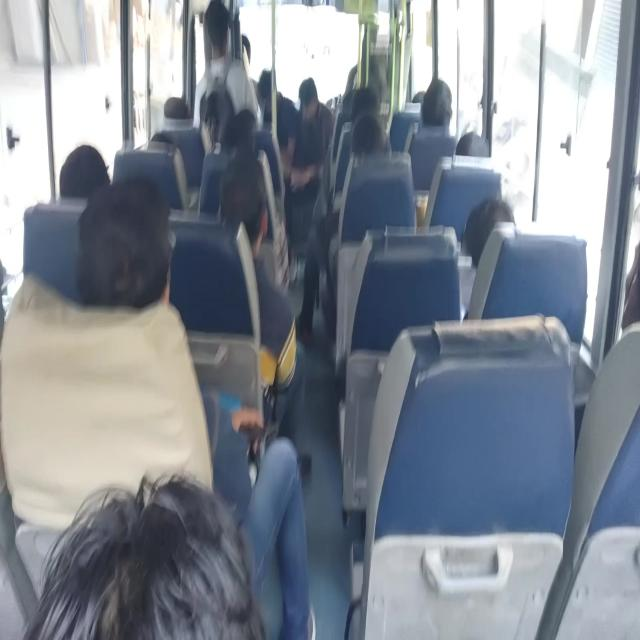person: (48, 473, 257, 640), (83, 191, 175, 320), (220, 158, 274, 240), (469, 192, 519, 258), (608, 242, 640, 337), (58, 138, 102, 193), (354, 117, 394, 172), (202, 10, 231, 74), (255, 72, 289, 118), (425, 78, 452, 134), (458, 134, 492, 177), (149, 127, 182, 167), (218, 128, 255, 161), (298, 85, 328, 124), (351, 82, 382, 115), (235, 34, 255, 76), (228, 113, 253, 135), (168, 87, 183, 118), (413, 86, 426, 102)
